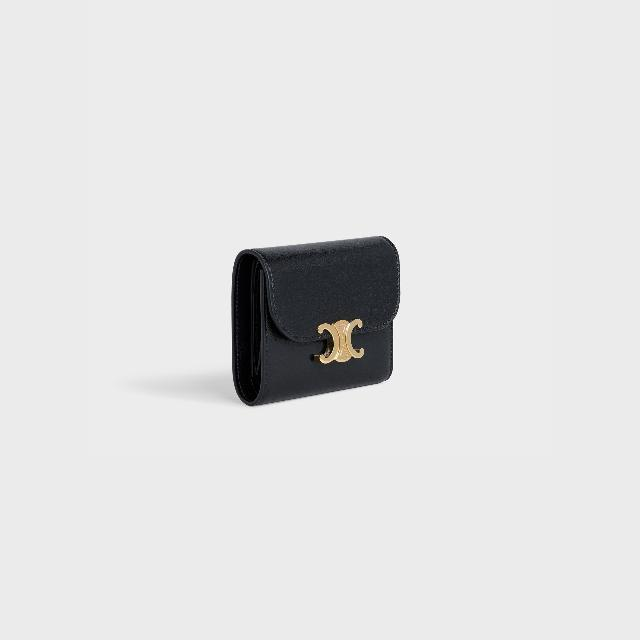wallet: (232, 231, 402, 409)
